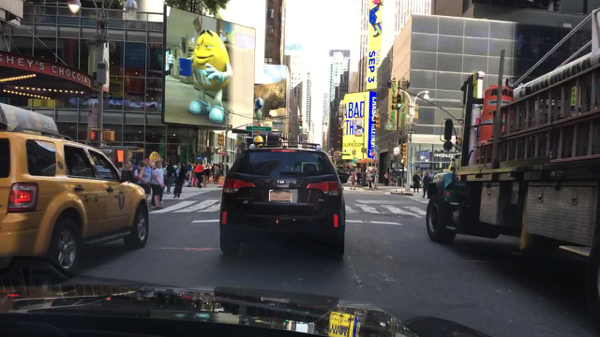car: (1, 101, 151, 282), (219, 144, 350, 262)
person: (149, 160, 167, 212), (136, 159, 152, 203), (194, 161, 209, 190), (420, 171, 435, 200), (119, 161, 137, 185), (174, 162, 186, 198), (163, 161, 174, 195), (135, 160, 147, 189), (411, 169, 423, 194), (212, 162, 220, 185), (202, 162, 211, 181), (349, 169, 357, 190), (365, 169, 373, 189), (371, 169, 378, 191), (383, 170, 391, 187), (185, 160, 191, 181), (428, 169, 435, 182)
traffic light: (389, 93, 403, 112), (398, 141, 408, 165), (102, 130, 118, 145), (88, 126, 100, 143), (216, 132, 227, 147), (372, 113, 381, 130), (296, 117, 304, 131), (455, 135, 462, 150)
traffic sign: (242, 123, 272, 132), (87, 106, 100, 125)
truck: (422, 8, 598, 297)
